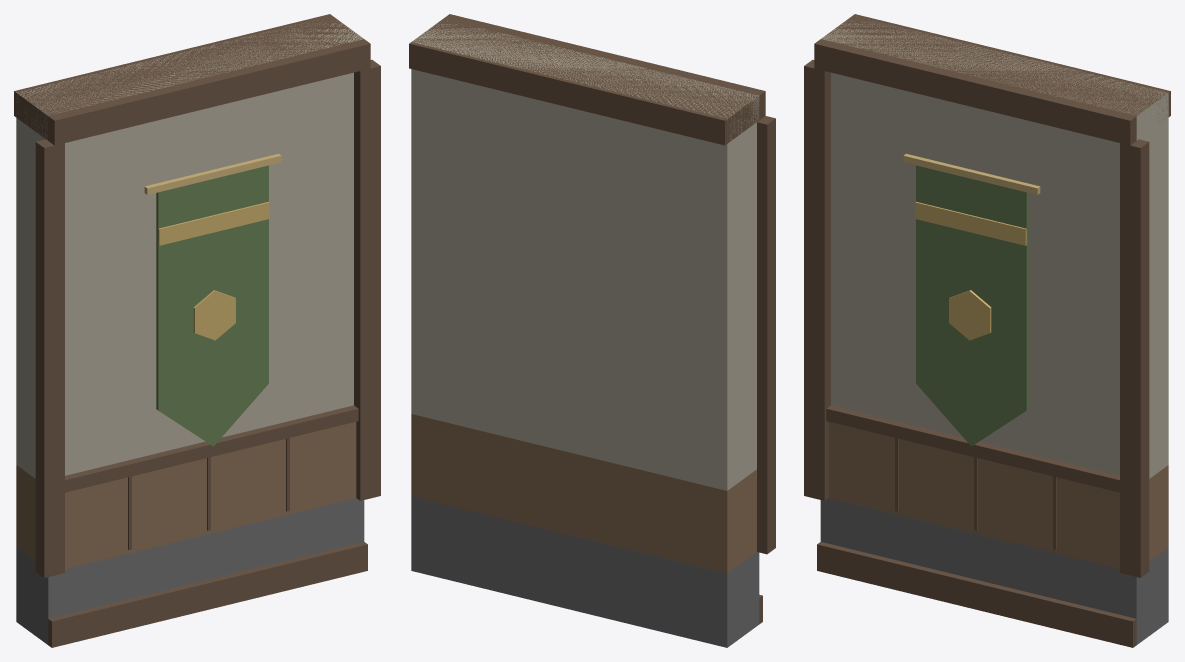
The model's file is hall_banner.glb.
3 views of the same model, side by side, from view 1: azimuth 30°, elevation 25°; view 2: azimuth 150°, elevation 25°; view 3: azimuth 330°, elevation 25° (orthographic).
Parts seen in each view (by area): view 1: Upper, Plinth; view 2: Upper, Plinth; view 3: Upper, Plinth.
Boxes of the visible parts, left/top/right/bottom form: Upper: left=14, top=14, right=380, bottom=577; Plinth: left=16, top=498, right=367, bottom=647; Upper: left=409, top=14, right=775, bottom=573; Plinth: left=411, top=496, right=762, bottom=647; Upper: left=804, top=14, right=1170, bottom=577; Plinth: left=817, top=498, right=1168, bottom=647.
Bounding box in the file's own units: 4.26 × 6.4 × 0.95.
